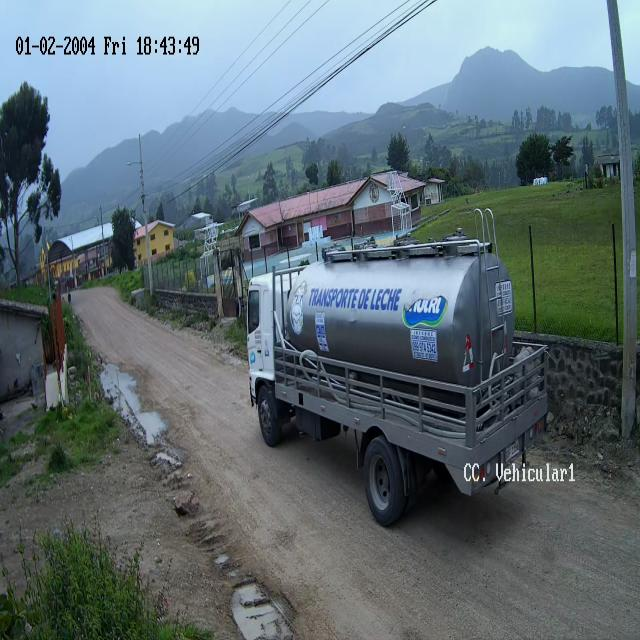TRUCK: (242, 242, 550, 528)
